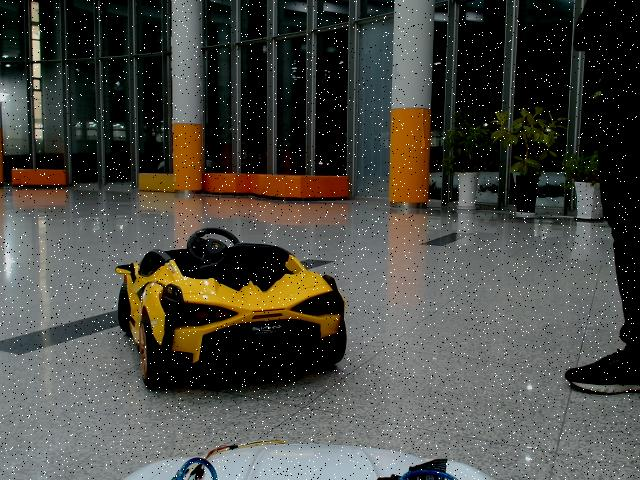car: (115, 227, 348, 389)
